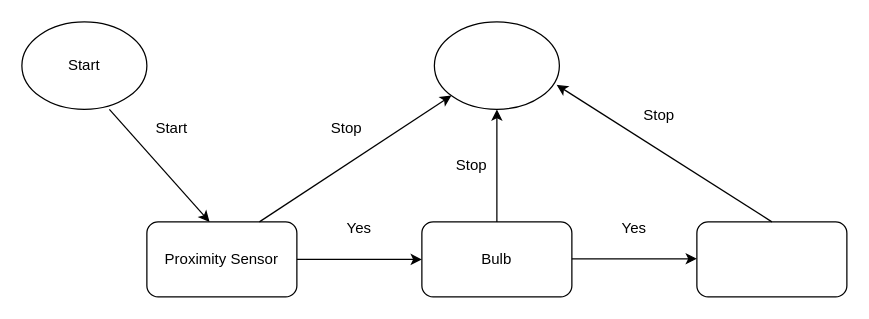
Image size: 869x319. Some labels were removed from this diagram. The centre of each missing label's shape, as x and y in pixels:
End: the point at 496,65
Switch: the point at 771,259
